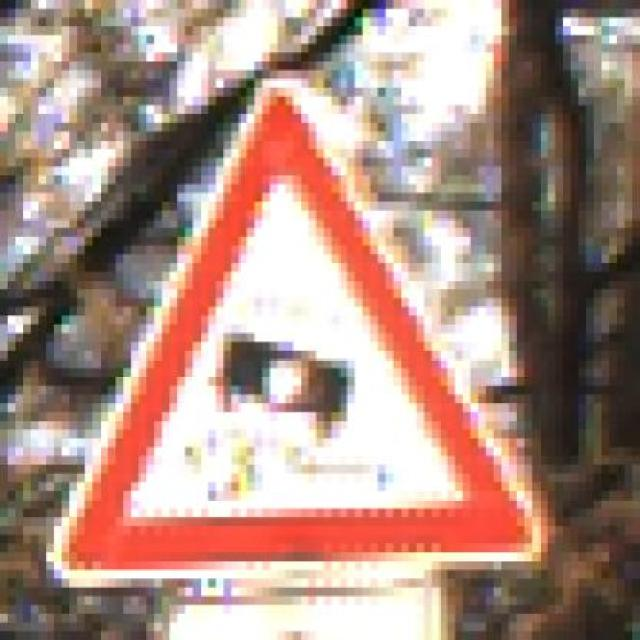Slippery Road Ahead: (46, 70, 571, 587)
